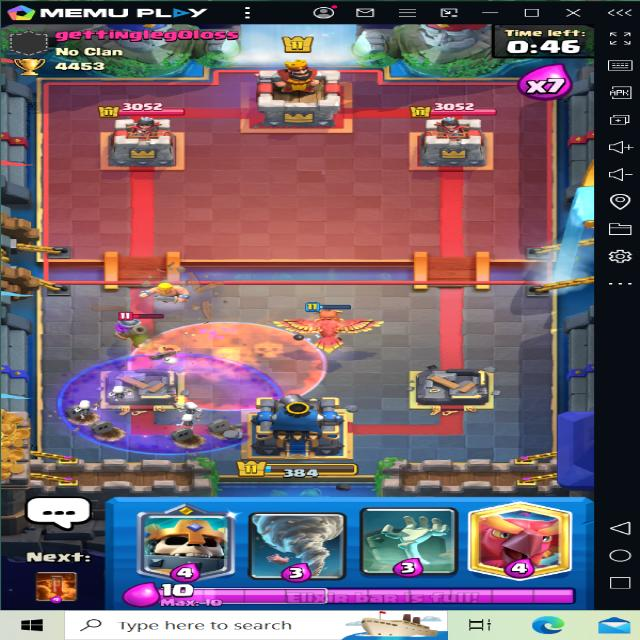musketeer: (116, 310, 154, 348)
